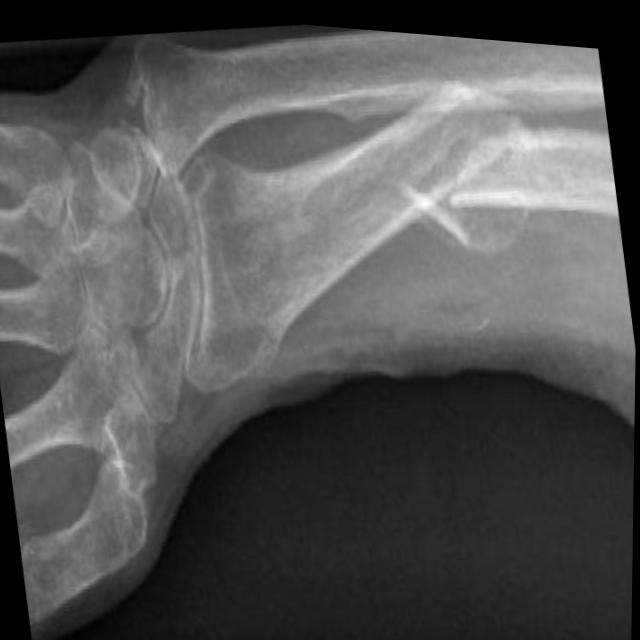fracture: (416, 49, 532, 232)
